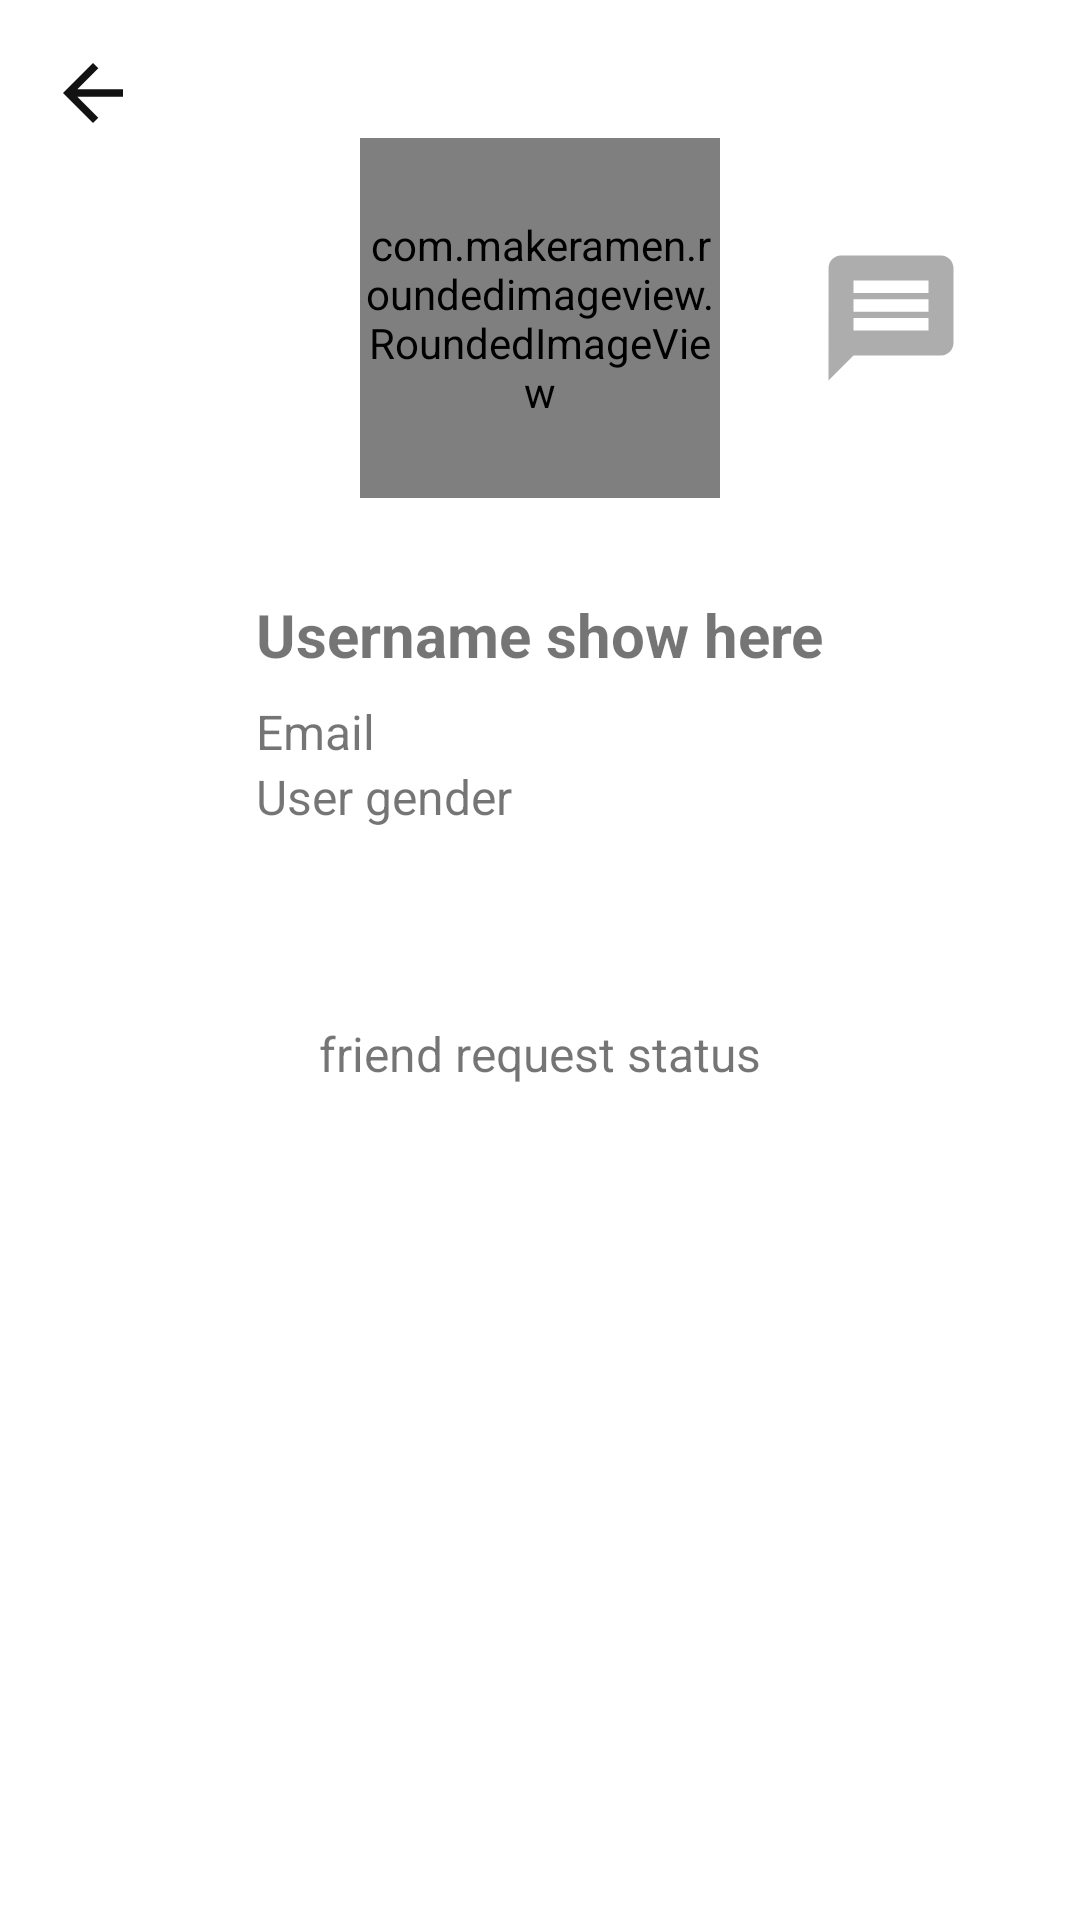

Named icons in this screenshot (1080w x 1920h) and their bounding boxes, (x1, y1, x2, y2):
back: (63, 63, 123, 123)
message: (828, 255, 954, 380)
